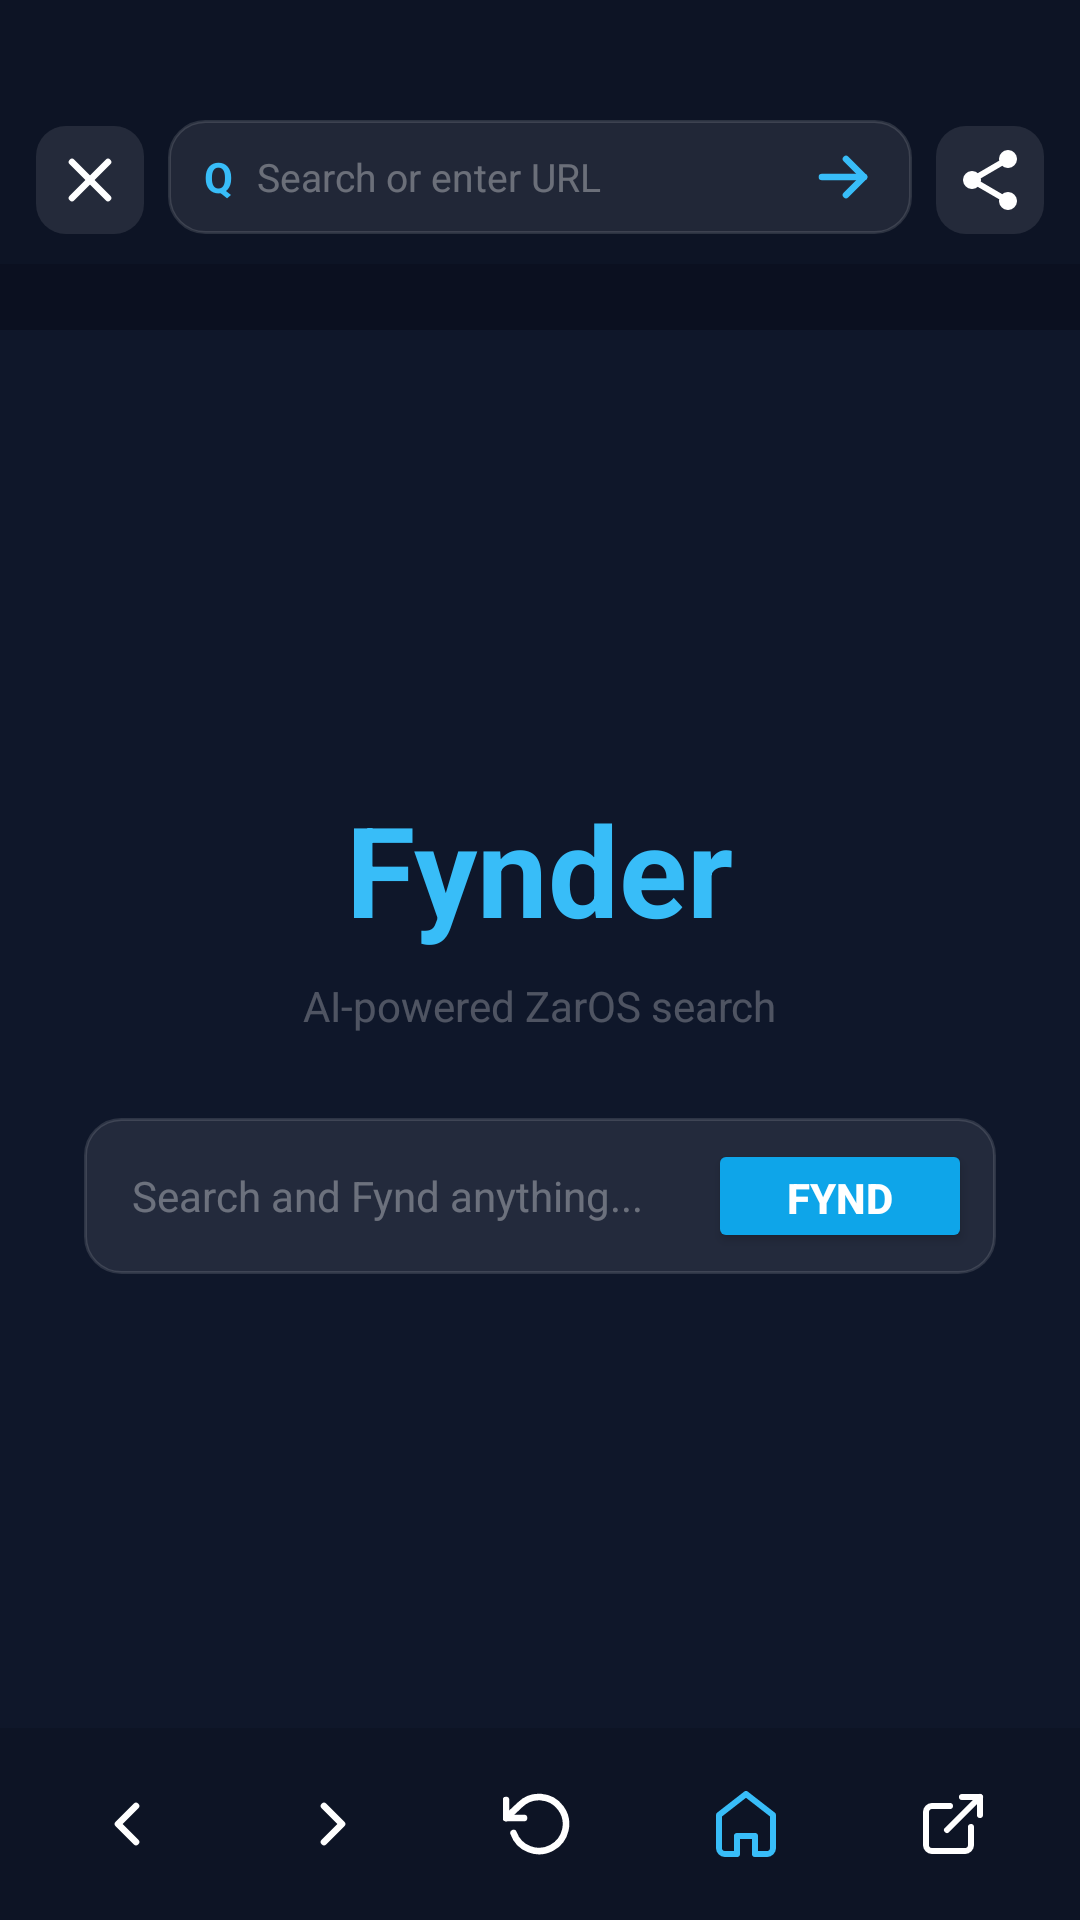

Named icons in this screenshot (1080px×1920px) and their bounding boxes, region(x1, y1, x2, y2):
Back: region(114, 1802, 140, 1846)
Close: region(36, 126, 144, 234)
Forward: region(320, 1802, 346, 1846)
Go: region(818, 155, 868, 199)
Home: region(716, 1791, 776, 1857)
Open external: region(923, 1794, 983, 1854)
Refresh: region(503, 1793, 570, 1855)
Share: region(936, 126, 1044, 234)
